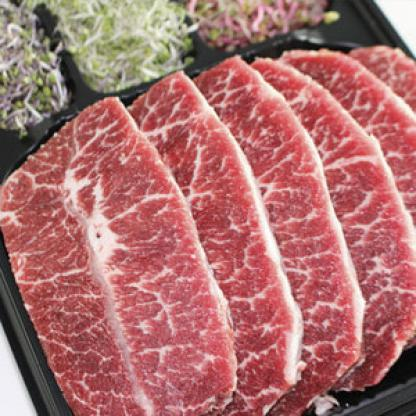beef: (29, 69, 415, 402)
